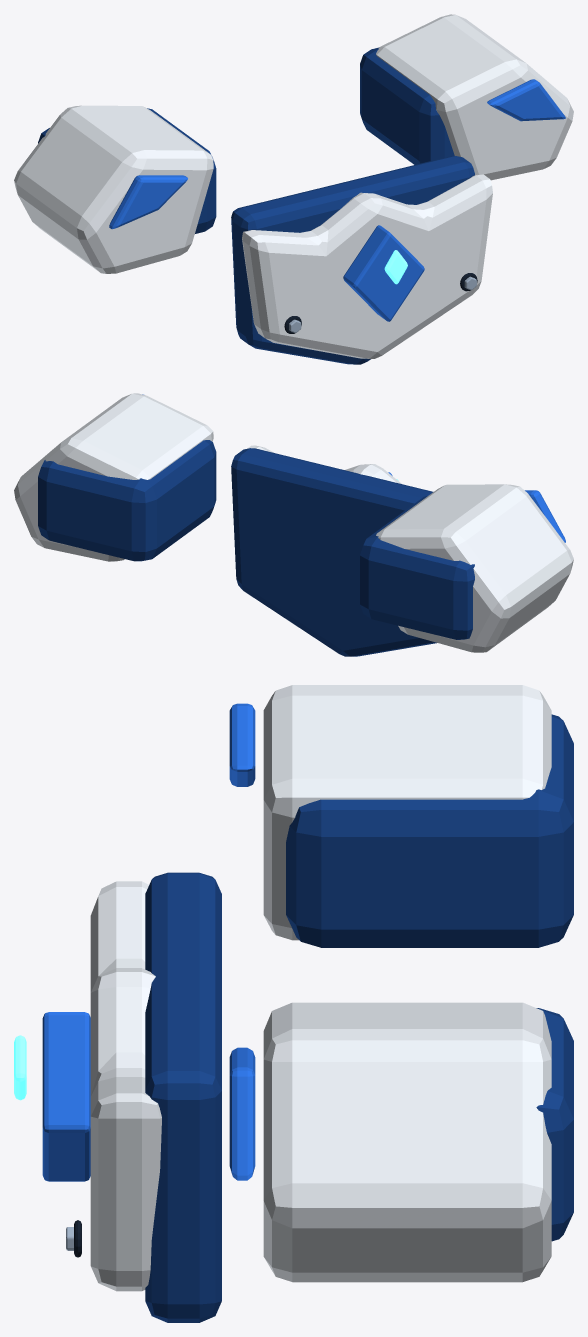
File: fin_plate.glb
3 renders of one model, top to bottom at view 1: azimuth 30°, elevation 25°; view 2: azimuth 150°, elevation 25°; view 3: azimuth 270°, elevation 25°, orthographic. The views are drawn at different scales.
Parts seen in each view (by area): view 1: ModuleArmor; view 2: ModuleArmor; view 3: ModuleArmor.
Boxes of the visible parts, x1,y1,x2,y2 form: ModuleArmor: (14,14,573,364); ModuleArmor: (14,393,573,656); ModuleArmor: (14,685,573,1322).
Bounding box in the file's own units: 1.69 × 0.7619 × 0.875.
